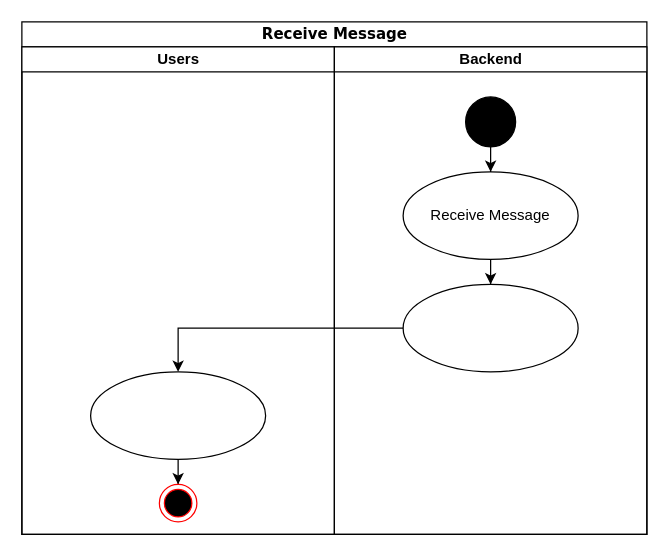
This 669x556 diagram has some shape labels left out. The shapes that lost their labels are listed below. From the top down, each one's centre as x and y in pixels, then its label:
At [490,327]: "Notificate User".
At [177,415]: "Read Message".
